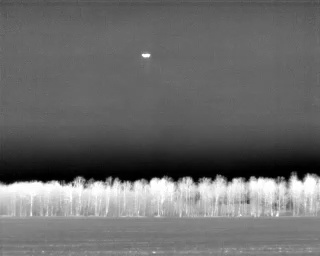DRONE: (139, 49, 154, 62)
